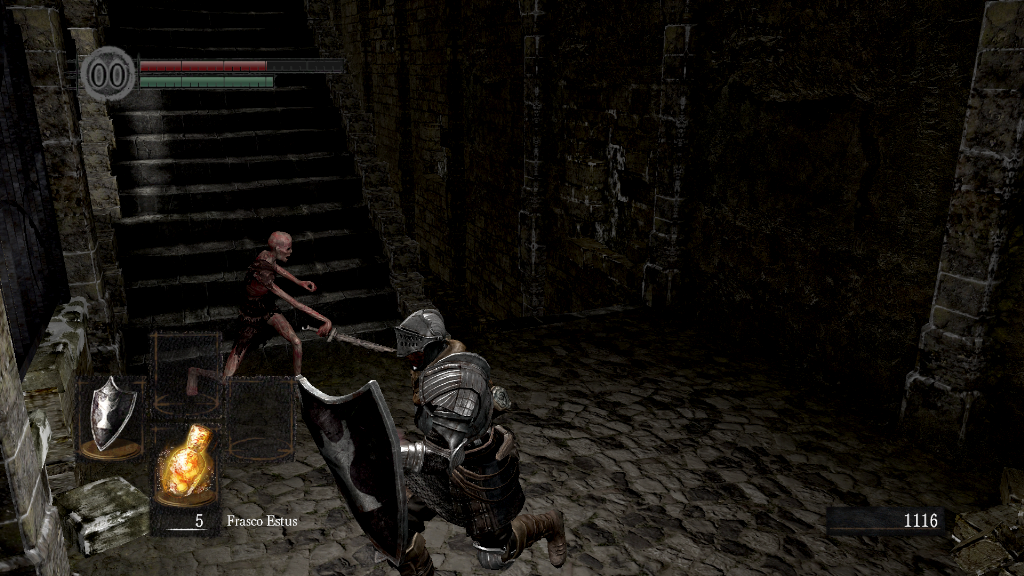health: (138, 58, 343, 71)
hollow: (189, 231, 334, 404)
humanity: (80, 45, 136, 102)
player: (290, 309, 569, 576)
souls: (825, 506, 945, 536)
stamina: (138, 74, 274, 88)
